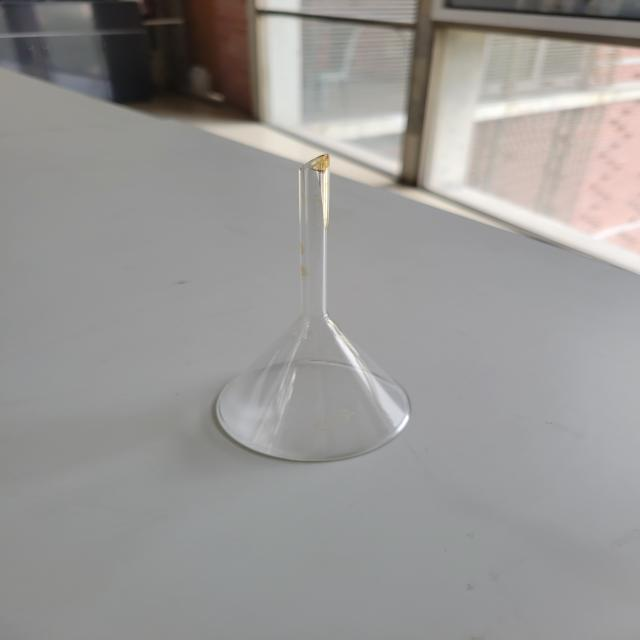Funnel: (189, 116, 438, 489)
